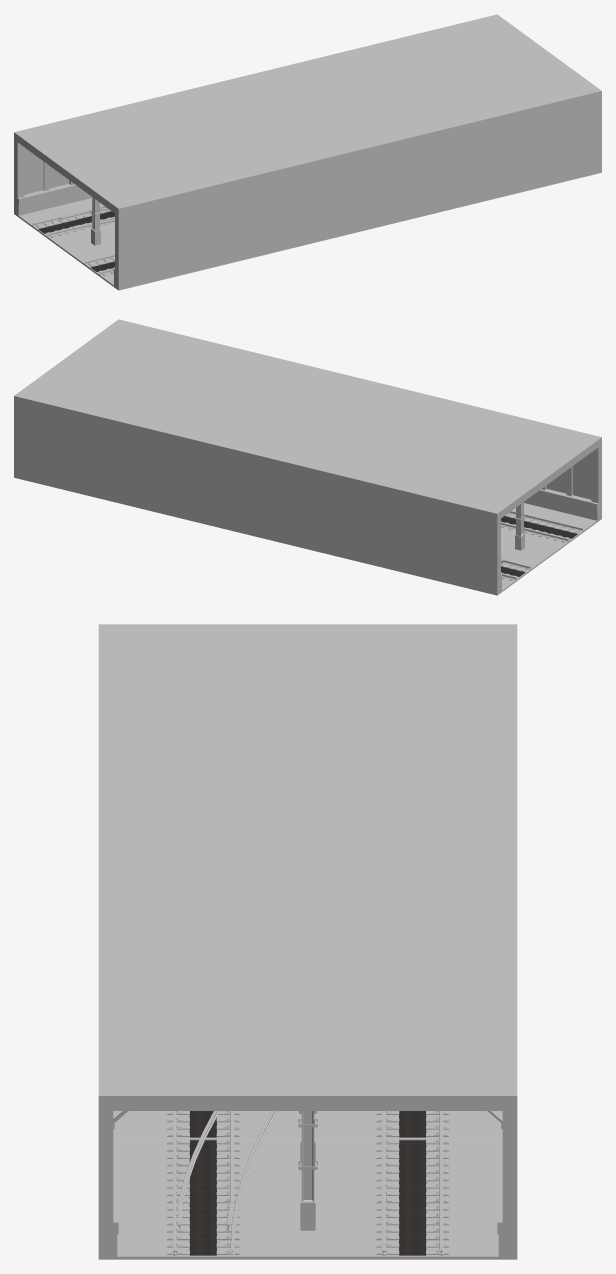
The model's file is SM_Tunnel_N.fbx.
3 views of the same model, one above another, from view 1: azimuth 30°, elevation 25°; view 2: azimuth 150°, elevation 25°; view 3: azimuth 270°, elevation 25° (orthographic). The views are drawn at different scales.
Visible parts, largest first — view 1: SM_Tunnel_N; view 2: SM_Tunnel_N; view 3: SM_Tunnel_N.
Part boxes in pixels (<box>): SM_Tunnel_N: <box>14,14,601,290</box>; SM_Tunnel_N: <box>14,319,601,595</box>; SM_Tunnel_N: <box>98,624,517,1259</box>.
Size of the model in its own units: 3200 by 517 by 1200.
